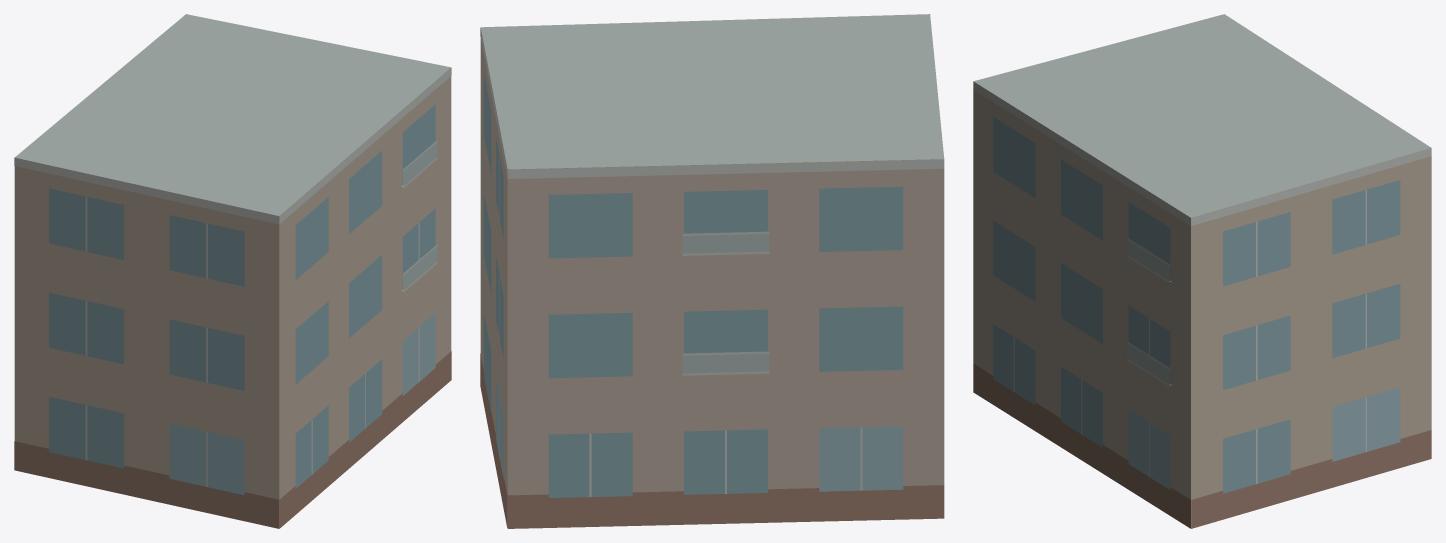
File: survey-upis-32790392.glb
3 views of the same model, side by side, from view 1: azimuth 30°, elevation 25°; view 2: azimuth 150°, elevation 25°; view 3: azimuth 270°, elevation 25° (orthographic). The views are drawn at different scales.
Parts seen in each view (by area): view 1: survey-upis-32790392.tmp; view 2: survey-upis-32790392.tmp; view 3: survey-upis-32790392.tmp.
Boxes of the visible parts, <box> form: survey-upis-32790392.tmp: <box>14,14,451,528</box>; survey-upis-32790392.tmp: <box>480,14,944,528</box>; survey-upis-32790392.tmp: <box>973,14,1431,528</box>.
Size of the model in its own units: 12.87 by 9.15 by 12.23.
